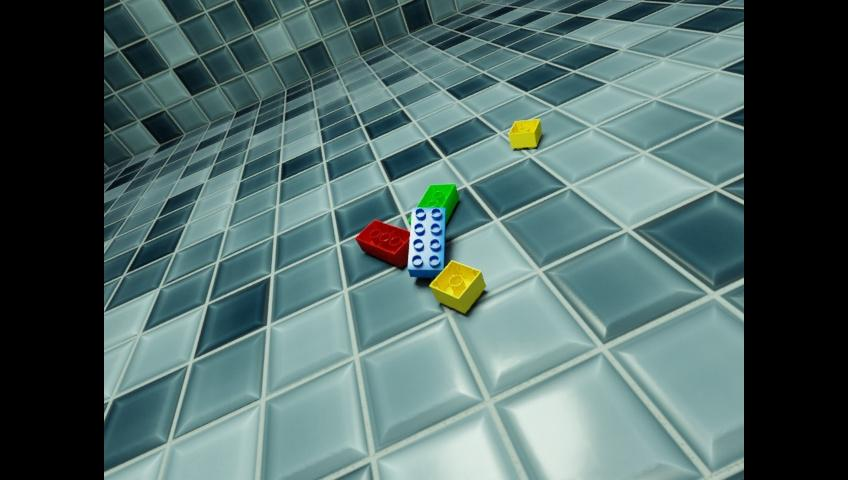2x2_yellow: (429, 260, 485, 313), (508, 118, 541, 149)
4x2_blue: (407, 207, 445, 277)
4x2_green: (415, 183, 458, 222)
4x2_red: (354, 219, 410, 267)
